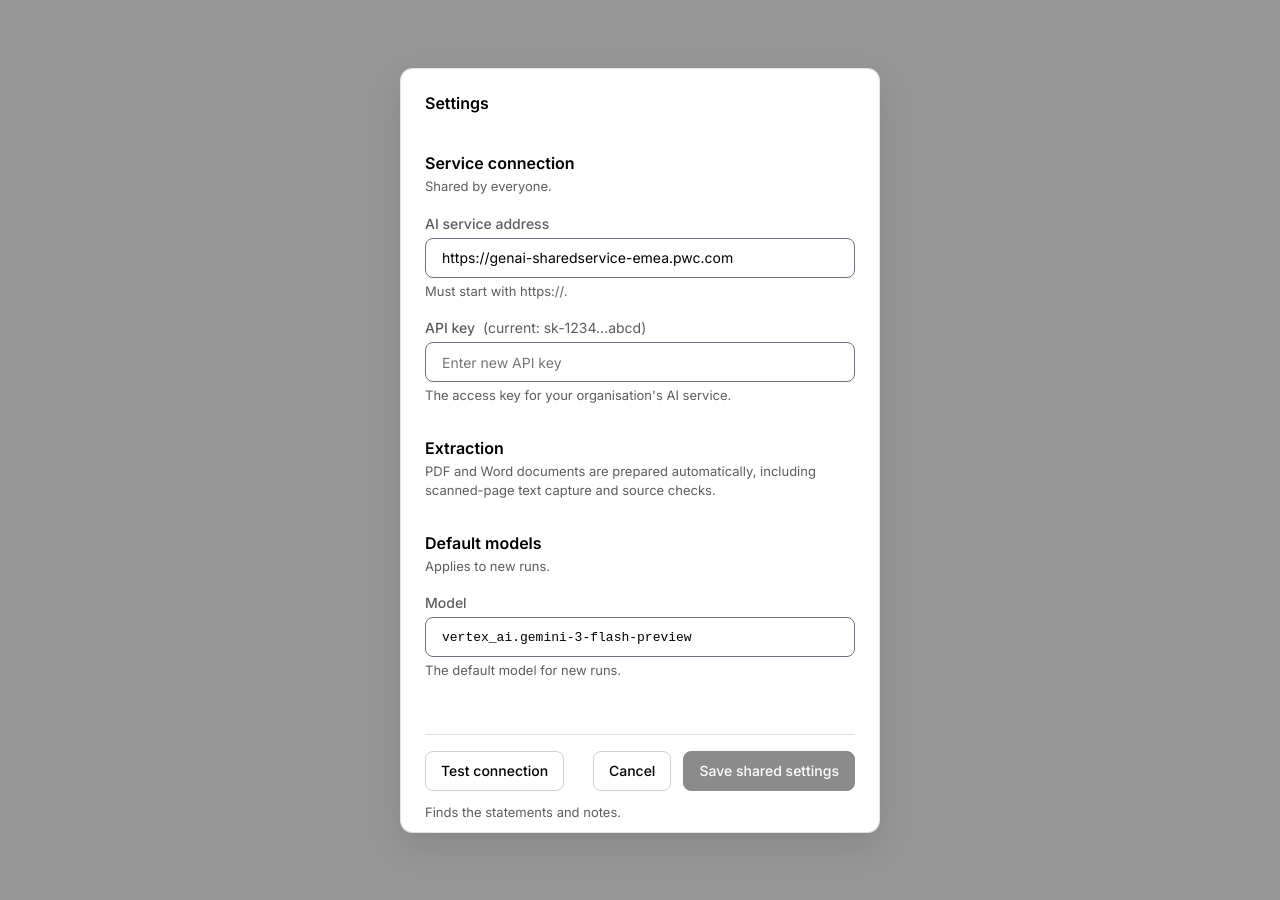
Test: SettingsModal — P3 enhancements › validates model name is non-empty on blur
Clear the field showing "vertex_ai.gemini-3-flash-preview" at (640, 637), box top-left (425, 617), bottom-right (855, 657)
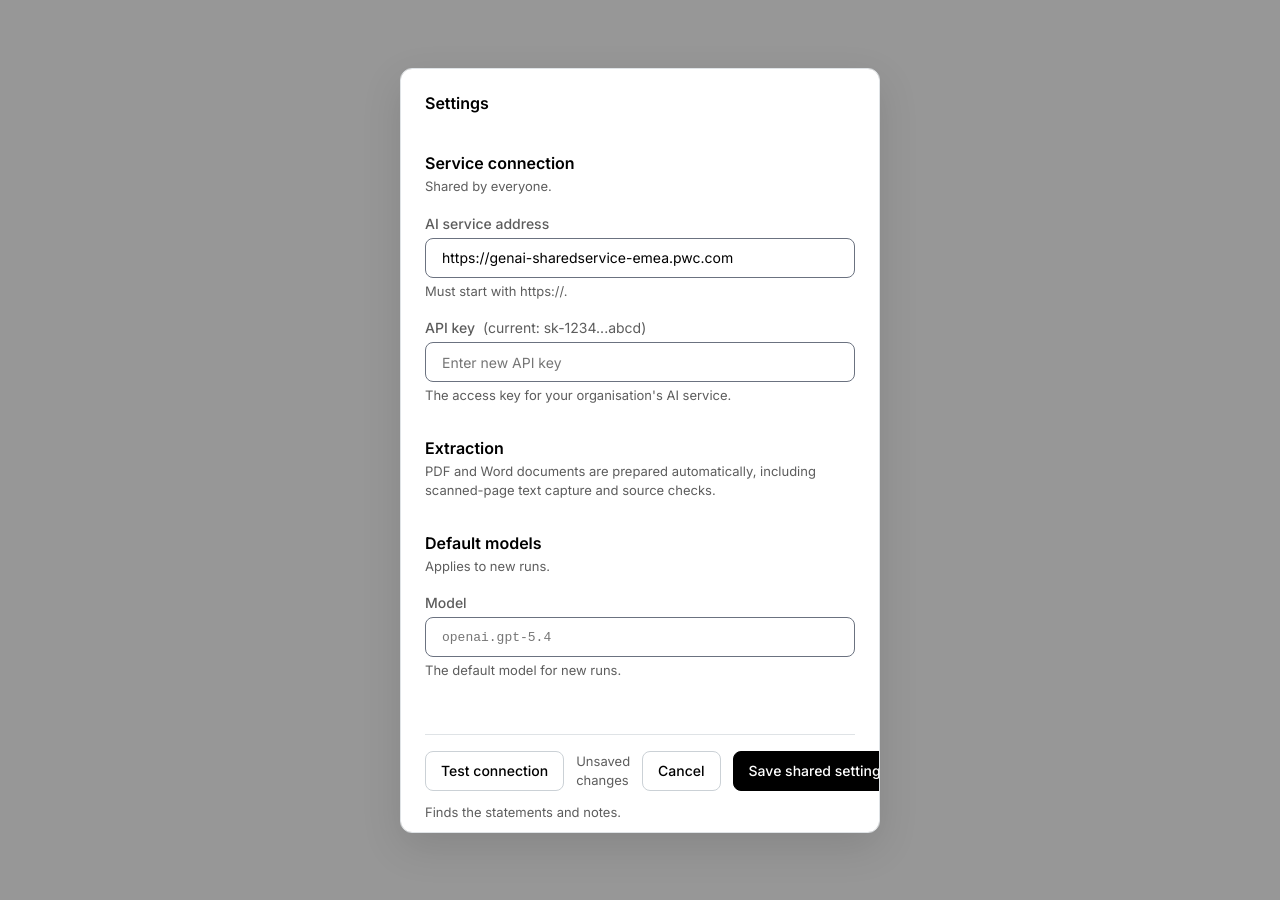
Leave the field showing "vertex_ai.gemini-3-flash-preview", box top-left (425, 617), bottom-right (855, 657)
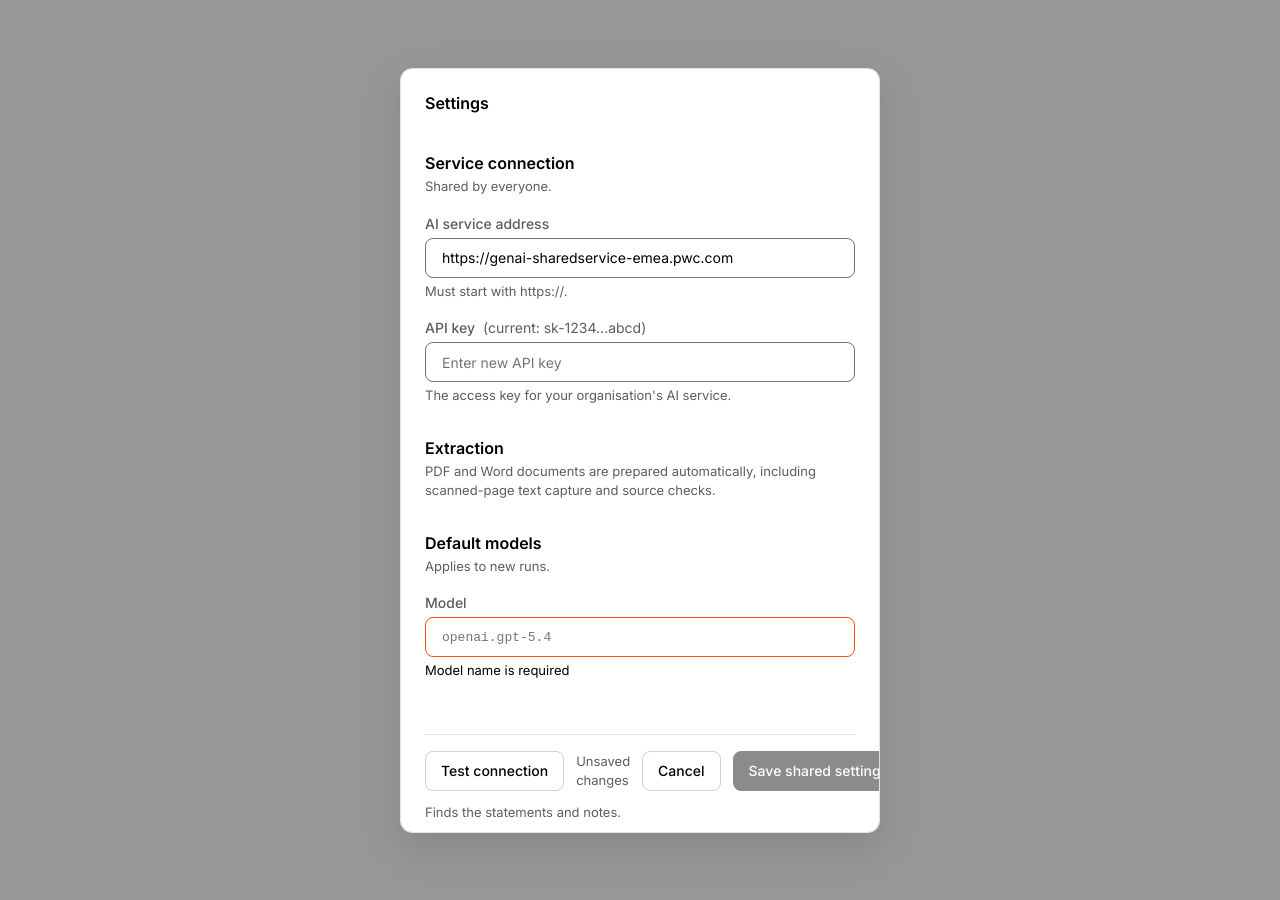
Expected: the text "Model name is required" is shown, top-left (425, 662), bottom-right (569, 678)
